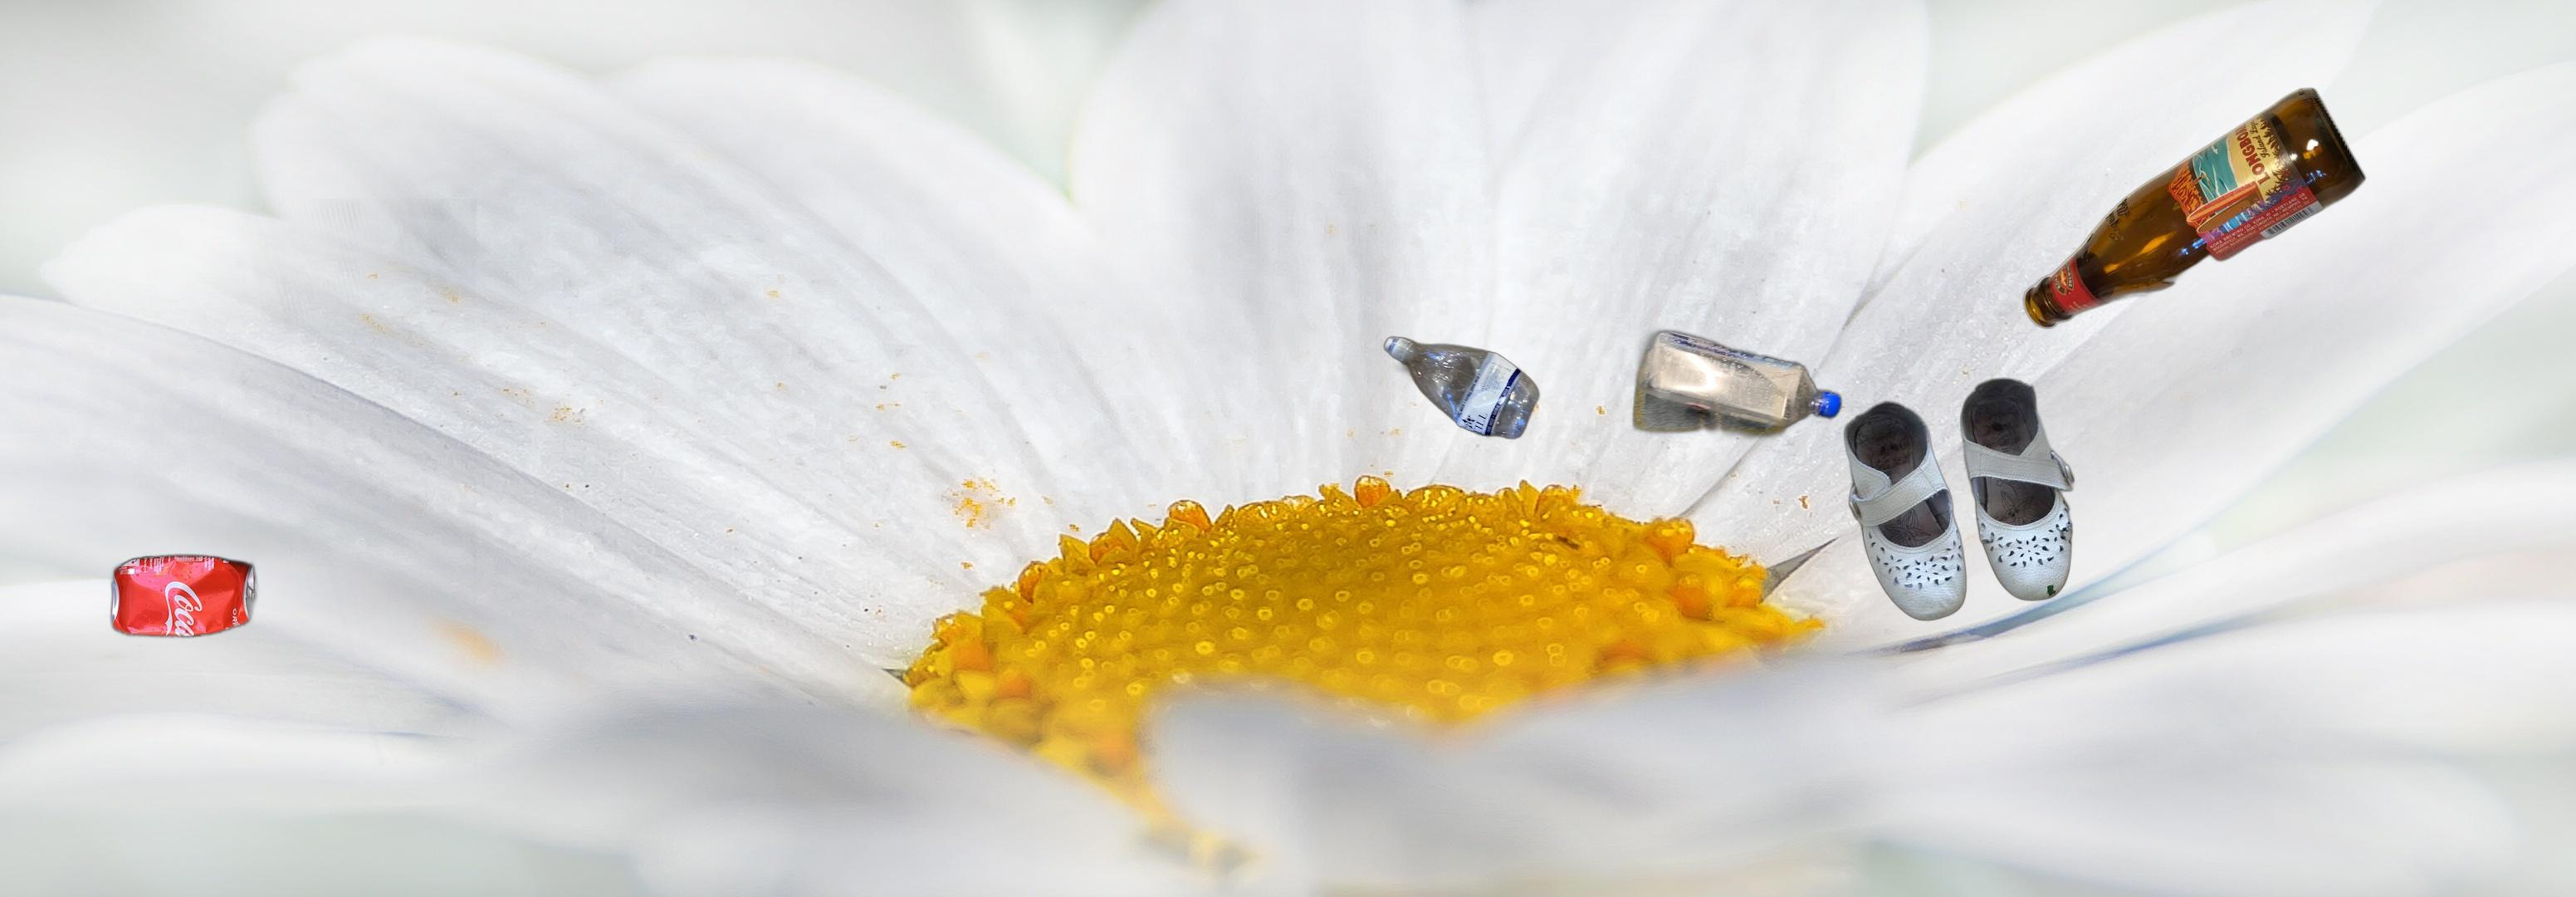glass: (2019, 85, 2369, 332)
metal-cans: (80, 199, 476, 766)
plastic-bottles: (1630, 312, 1845, 444), (1382, 332, 1541, 442)
shoes: (1842, 375, 2078, 624)
